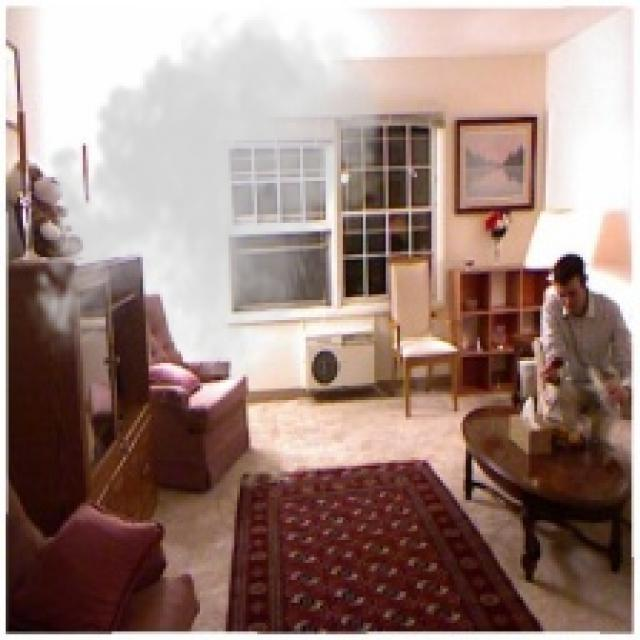Smoke: (22, 3, 388, 380)
